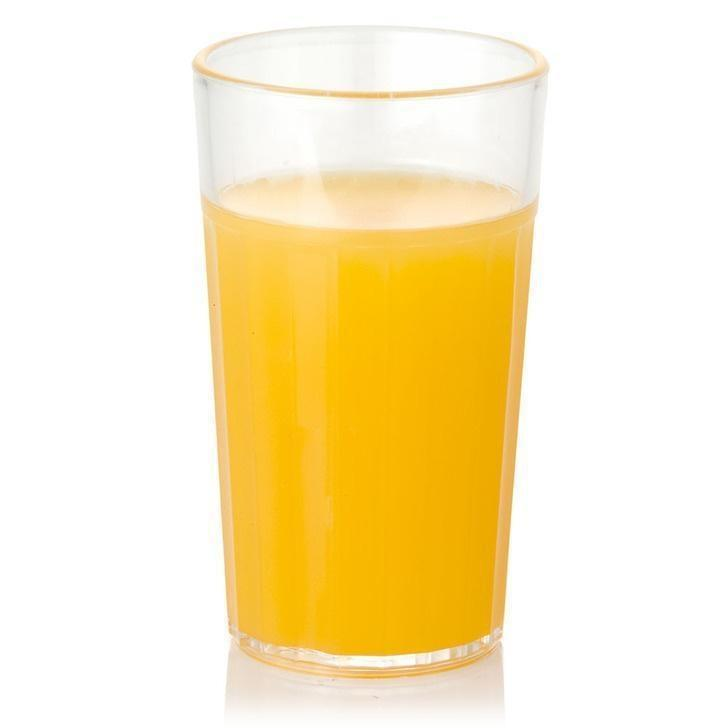glass-normal: (190, 22, 552, 682)
